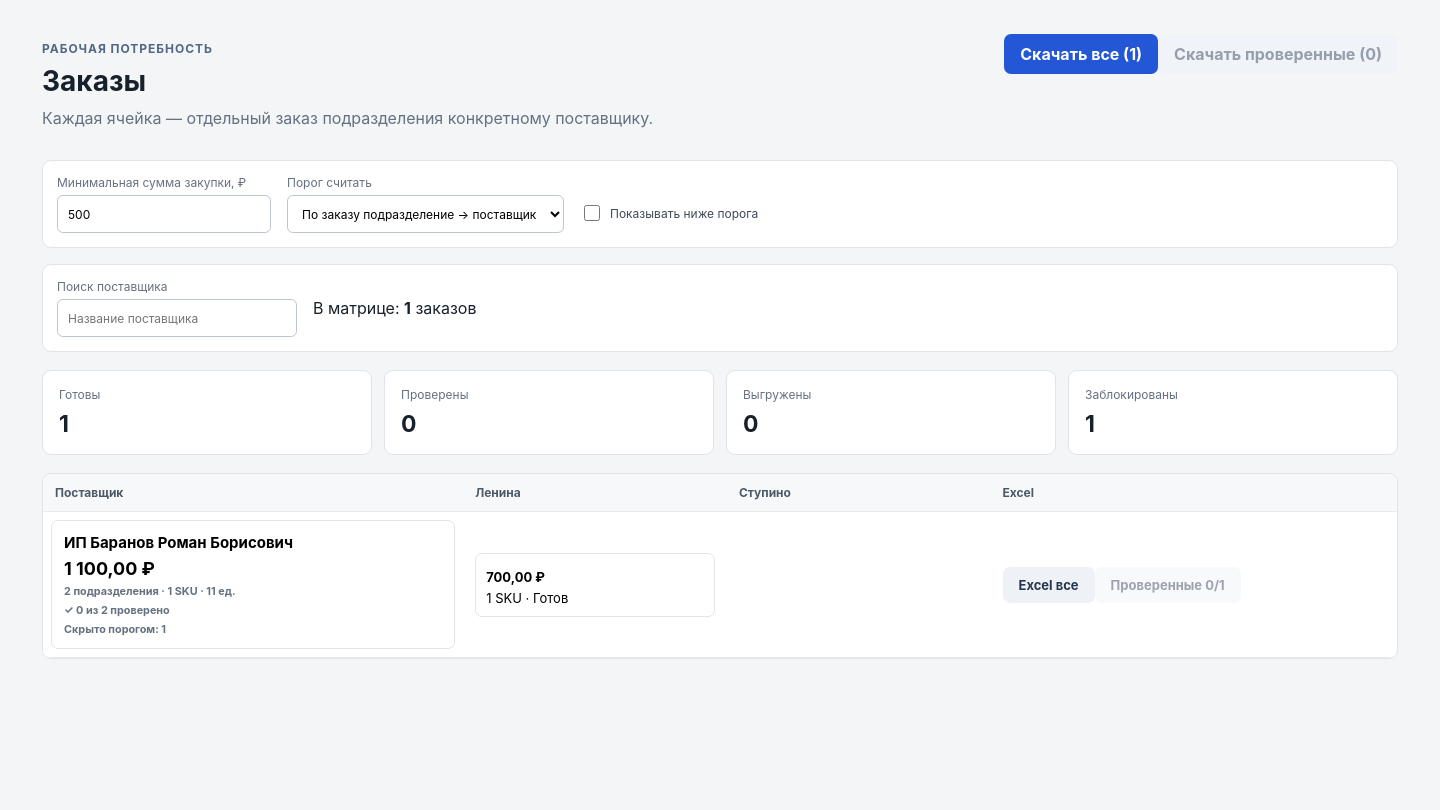
Test: OrdersPage › opens the complete supplier-wide order set from the accessible supplier card
Check: the text "Скрыто порогом: 1" is shown, box [64,623,166,636]
Click the button with aria-label "все заказы ип баранов роман борисович" at [178, 542], box [51,520,455,649]
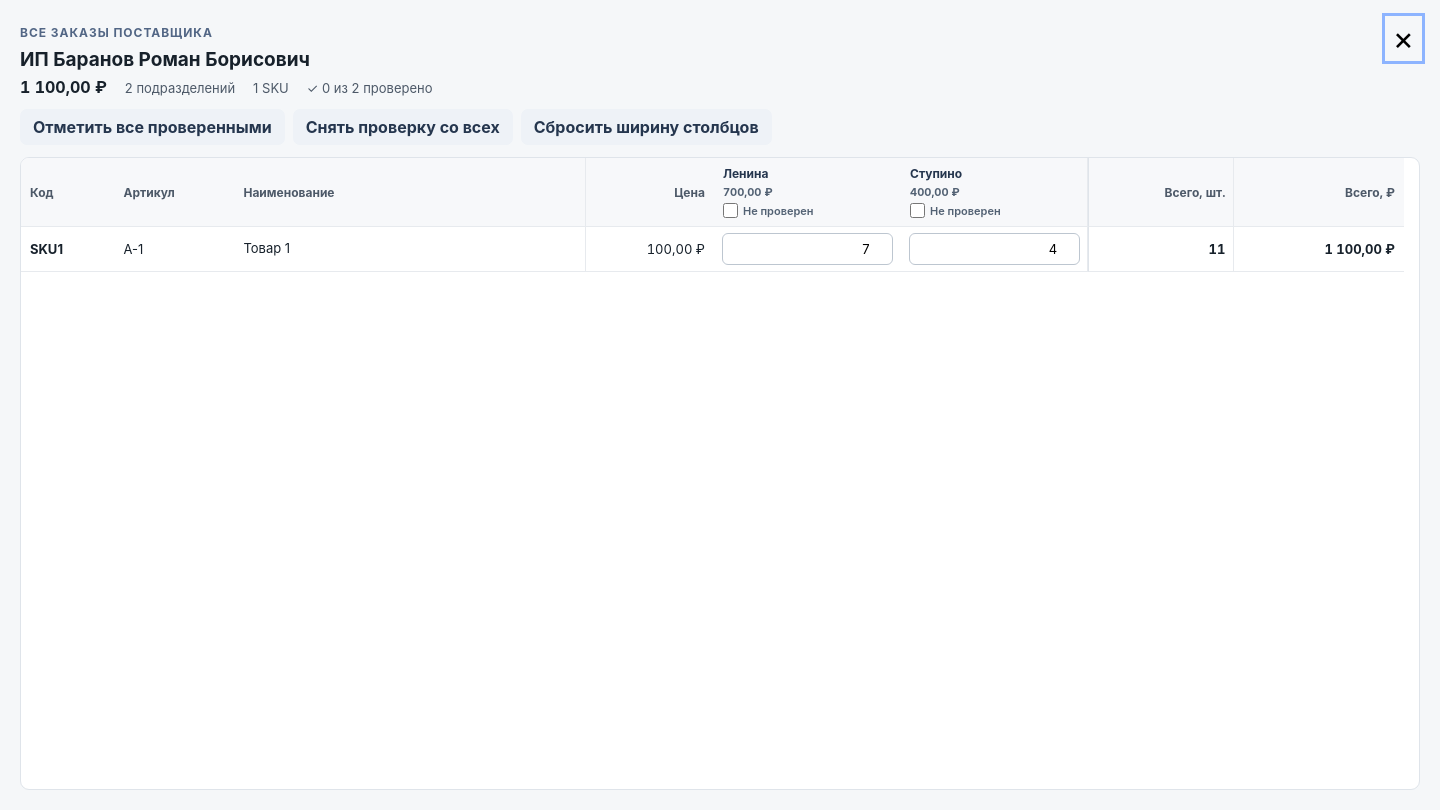
Check: the text "Ленина" is shown, box [723,166,768,181]
Check: the text "Ступино" is shown, box [910,166,962,181]
